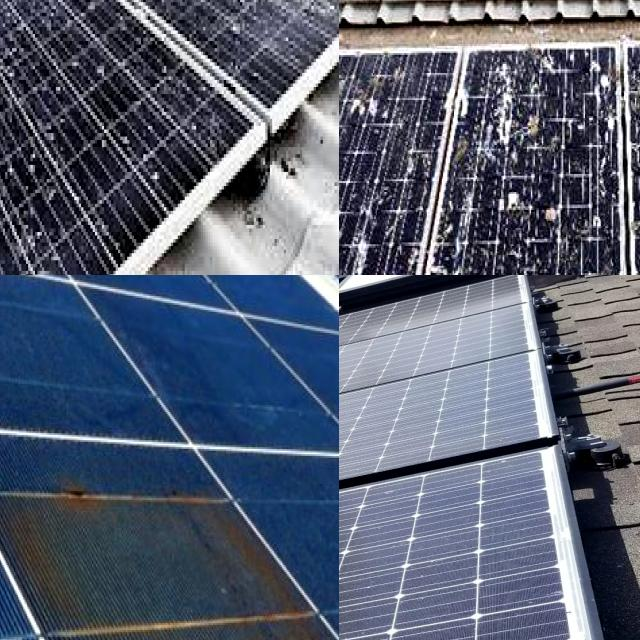bird: (488, 65, 541, 166), (341, 72, 388, 121), (507, 180, 532, 238), (544, 194, 570, 242)
dust: (23, 62, 123, 259), (0, 84, 60, 275), (149, 0, 252, 62), (136, 68, 191, 184), (280, 0, 339, 68), (0, 0, 48, 72), (0, 0, 30, 71), (57, 0, 92, 49), (81, 0, 118, 43), (235, 0, 302, 23)
shadow: (0, 448, 339, 640)
